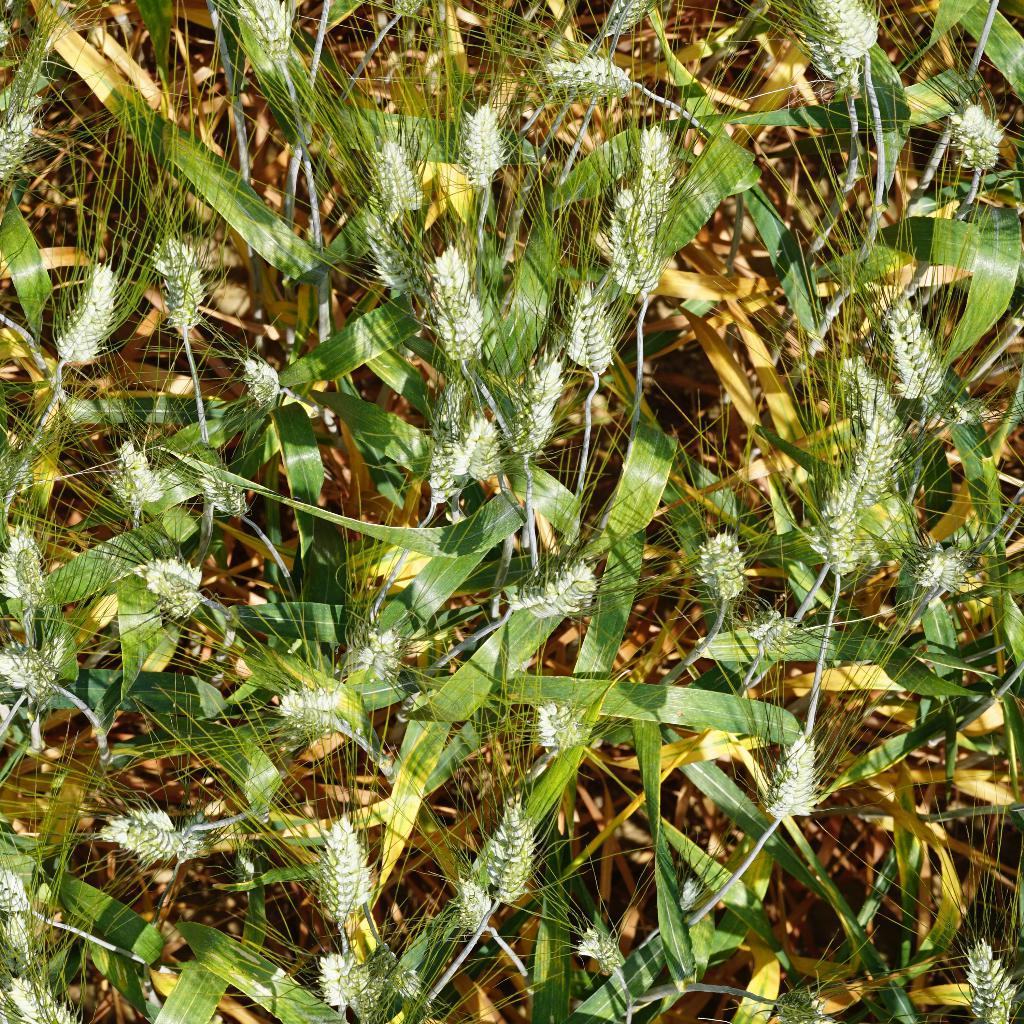0-0: (785, 399, 903, 524), (30, 250, 123, 372), (594, 179, 668, 314), (470, 791, 550, 912), (814, 343, 909, 441), (869, 292, 952, 403), (305, 810, 385, 925), (785, 0, 868, 105), (417, 249, 493, 361), (752, 736, 832, 834), (133, 549, 225, 632), (97, 792, 197, 868), (934, 86, 1011, 182), (441, 86, 512, 190), (418, 376, 477, 499), (530, 36, 638, 103), (496, 355, 567, 456), (148, 227, 215, 333), (493, 561, 598, 626), (684, 520, 754, 617), (949, 927, 1019, 1024), (191, 0, 294, 64), (557, 280, 620, 380), (903, 535, 991, 606), (191, 455, 269, 533), (352, 210, 426, 292), (344, 613, 429, 684), (268, 679, 363, 742), (98, 432, 164, 522), (793, 511, 871, 587), (784, 0, 888, 56), (0, 519, 56, 617), (366, 133, 428, 220), (311, 944, 382, 1016), (627, 118, 680, 212), (518, 686, 591, 752), (440, 873, 509, 942), (0, 833, 51, 925), (0, 631, 64, 703), (453, 411, 503, 494), (224, 346, 284, 415), (564, 919, 631, 979), (12, 978, 92, 1024), (768, 979, 848, 1024), (743, 597, 802, 654), (666, 856, 714, 923), (0, 103, 38, 186), (382, 959, 434, 1016), (168, 806, 213, 871), (593, 0, 664, 38), (930, 389, 999, 428), (0, 918, 48, 974), (380, 0, 445, 29), (0, 19, 22, 79), (0, 440, 15, 524)
